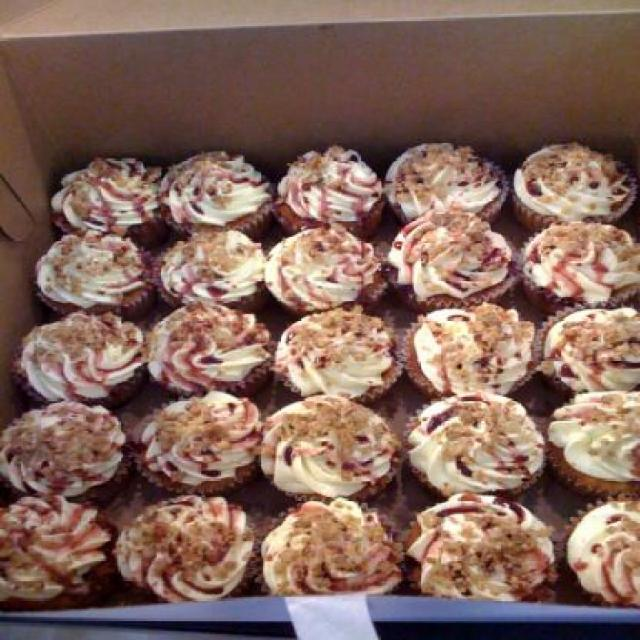Muffin: (0, 138, 638, 615), (260, 396, 406, 507)
